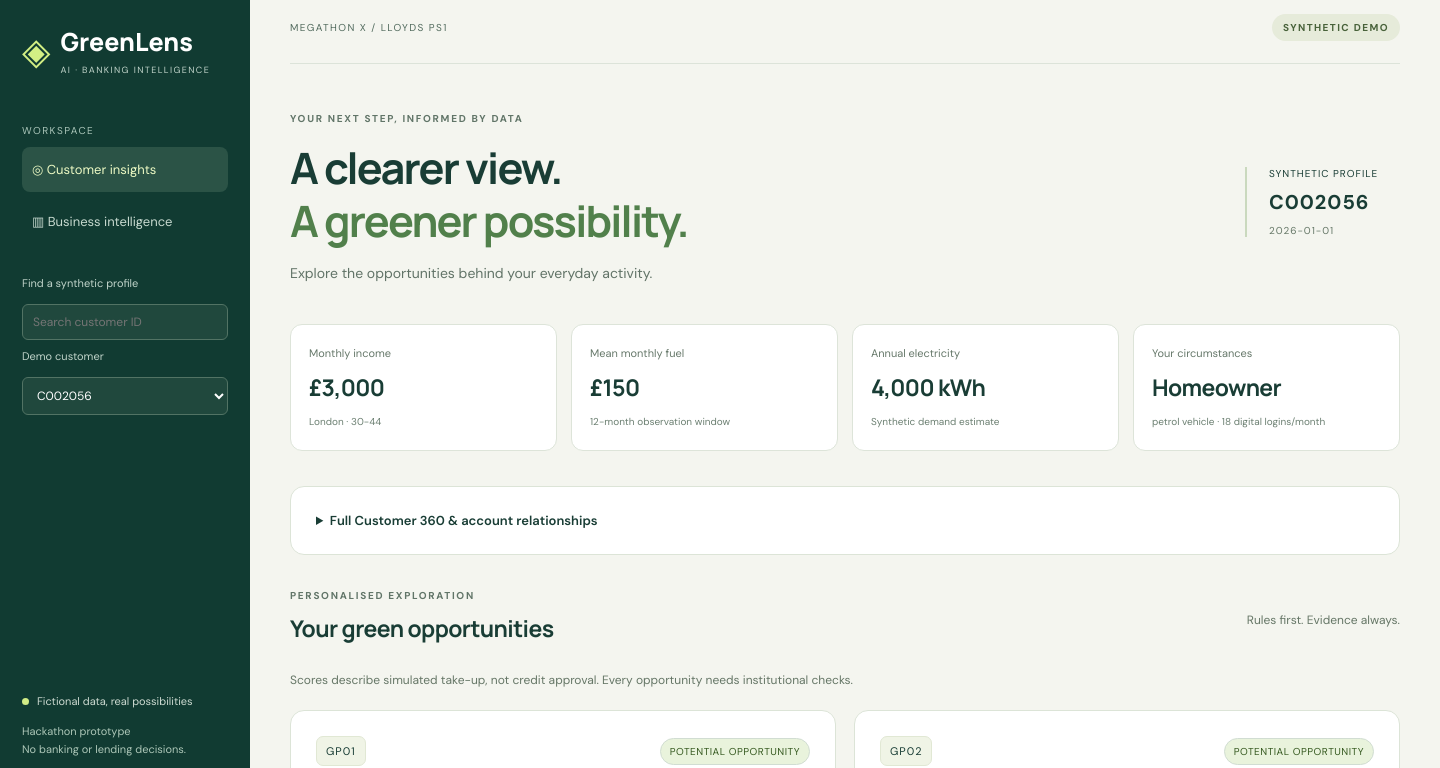
Test: Customer dashboard › moves excluded products out of offers into a separate explanation section
Select "C000026 · London" in the dropdown labelled "Demo customer" at point(125, 396), box [22,377,228,415]
(page scrolled)
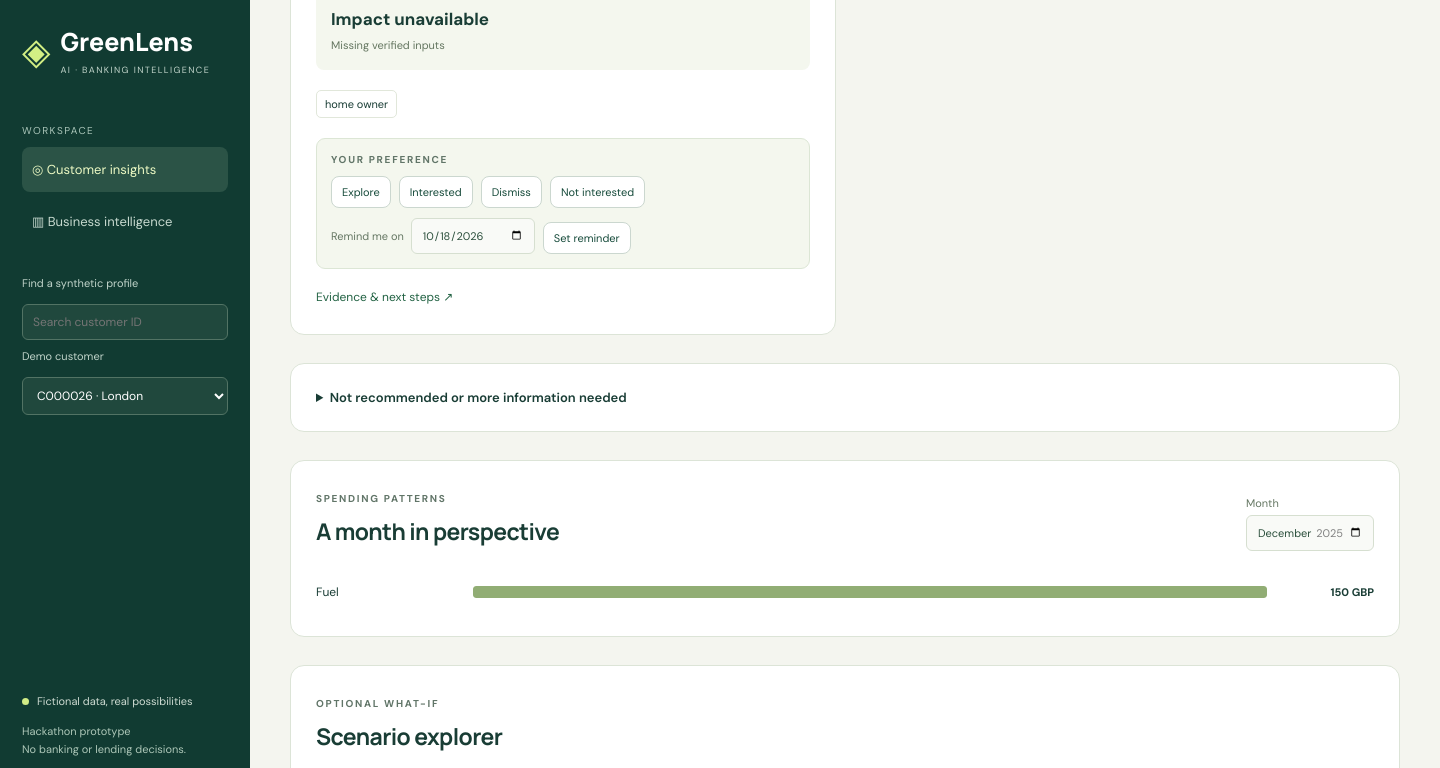
Expected: the heading "Not recommended or more information needed" is shown
Click the heading "Not recommended or more information needed" at point(478, 397), box [330,389,627,406]
(page scrolled)
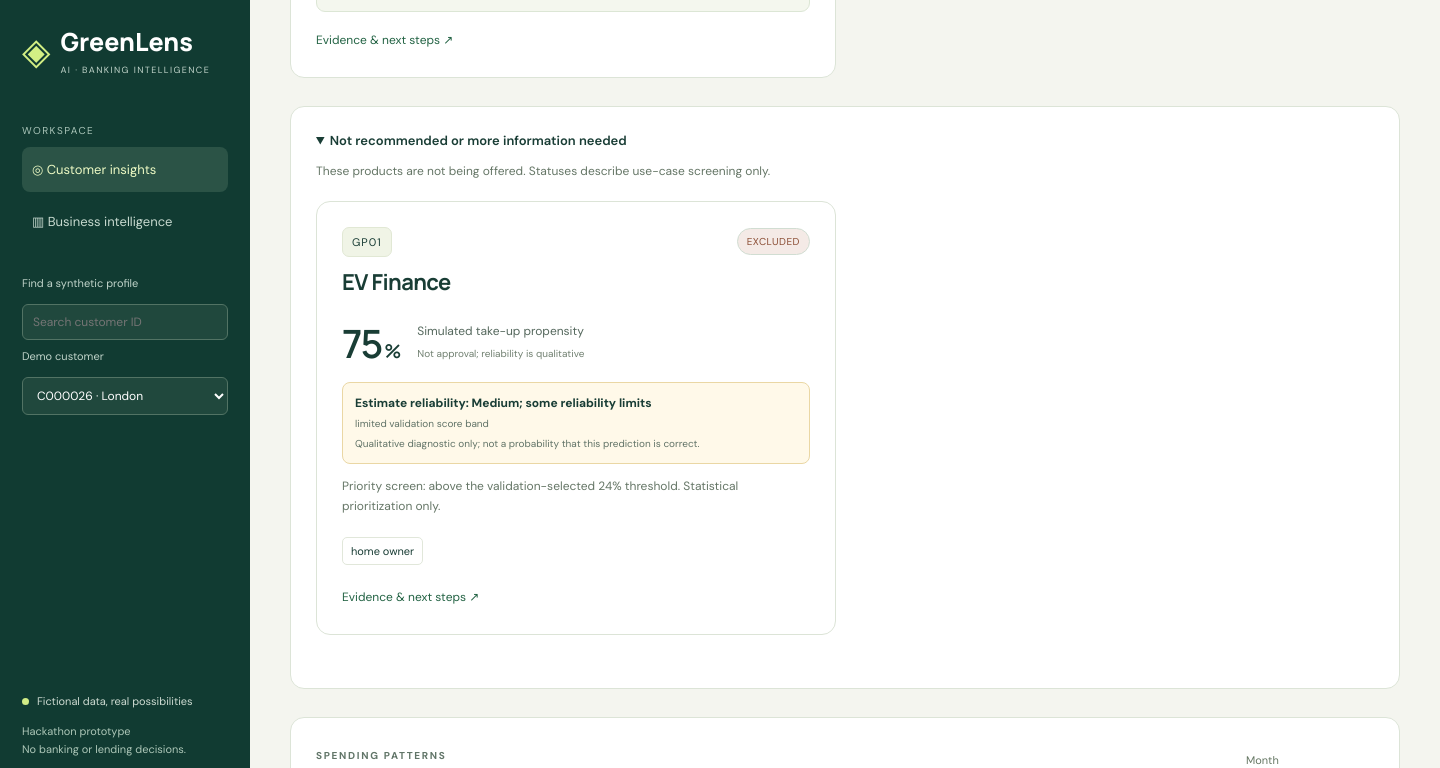
Expected: the element with test id "product-GP01" is shown, [290,106,1400,689]
Expected: the text "excluded" is shown, [737,228,810,256]
